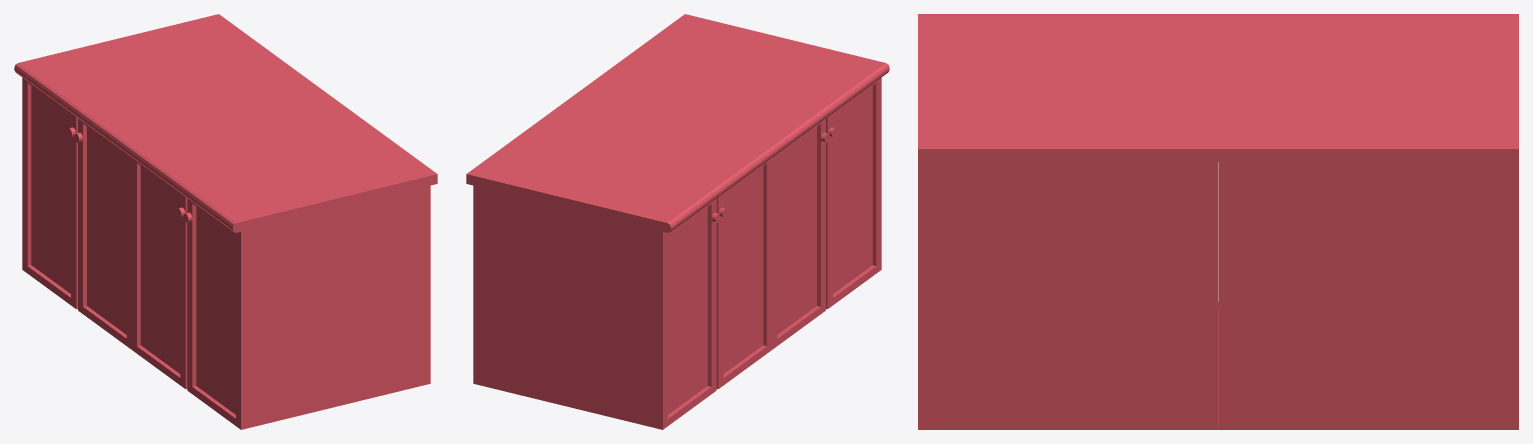
The model's file is counterTwoPiece.fbx.
3 renders of one model, left to right at view 1: azimuth 30°, elevation 25°; view 2: azimuth 150°, elevation 25°; view 3: azimuth 270°, elevation 25°, orthographic. The views are drawn at different scales.
Parts seen in each view (by area): view 1: Cabinet bottm.002; view 2: Cabinet bottm.002; view 3: Cabinet bottm.002.
Part boxes in pixels (x1,y1,x2,y2): Cabinet bottm.002: (14,14,437,429); Cabinet bottm.002: (466,14,889,429); Cabinet bottm.002: (918,14,1518,429).
Size of the model in its own units: 130 by 126 by 240.
